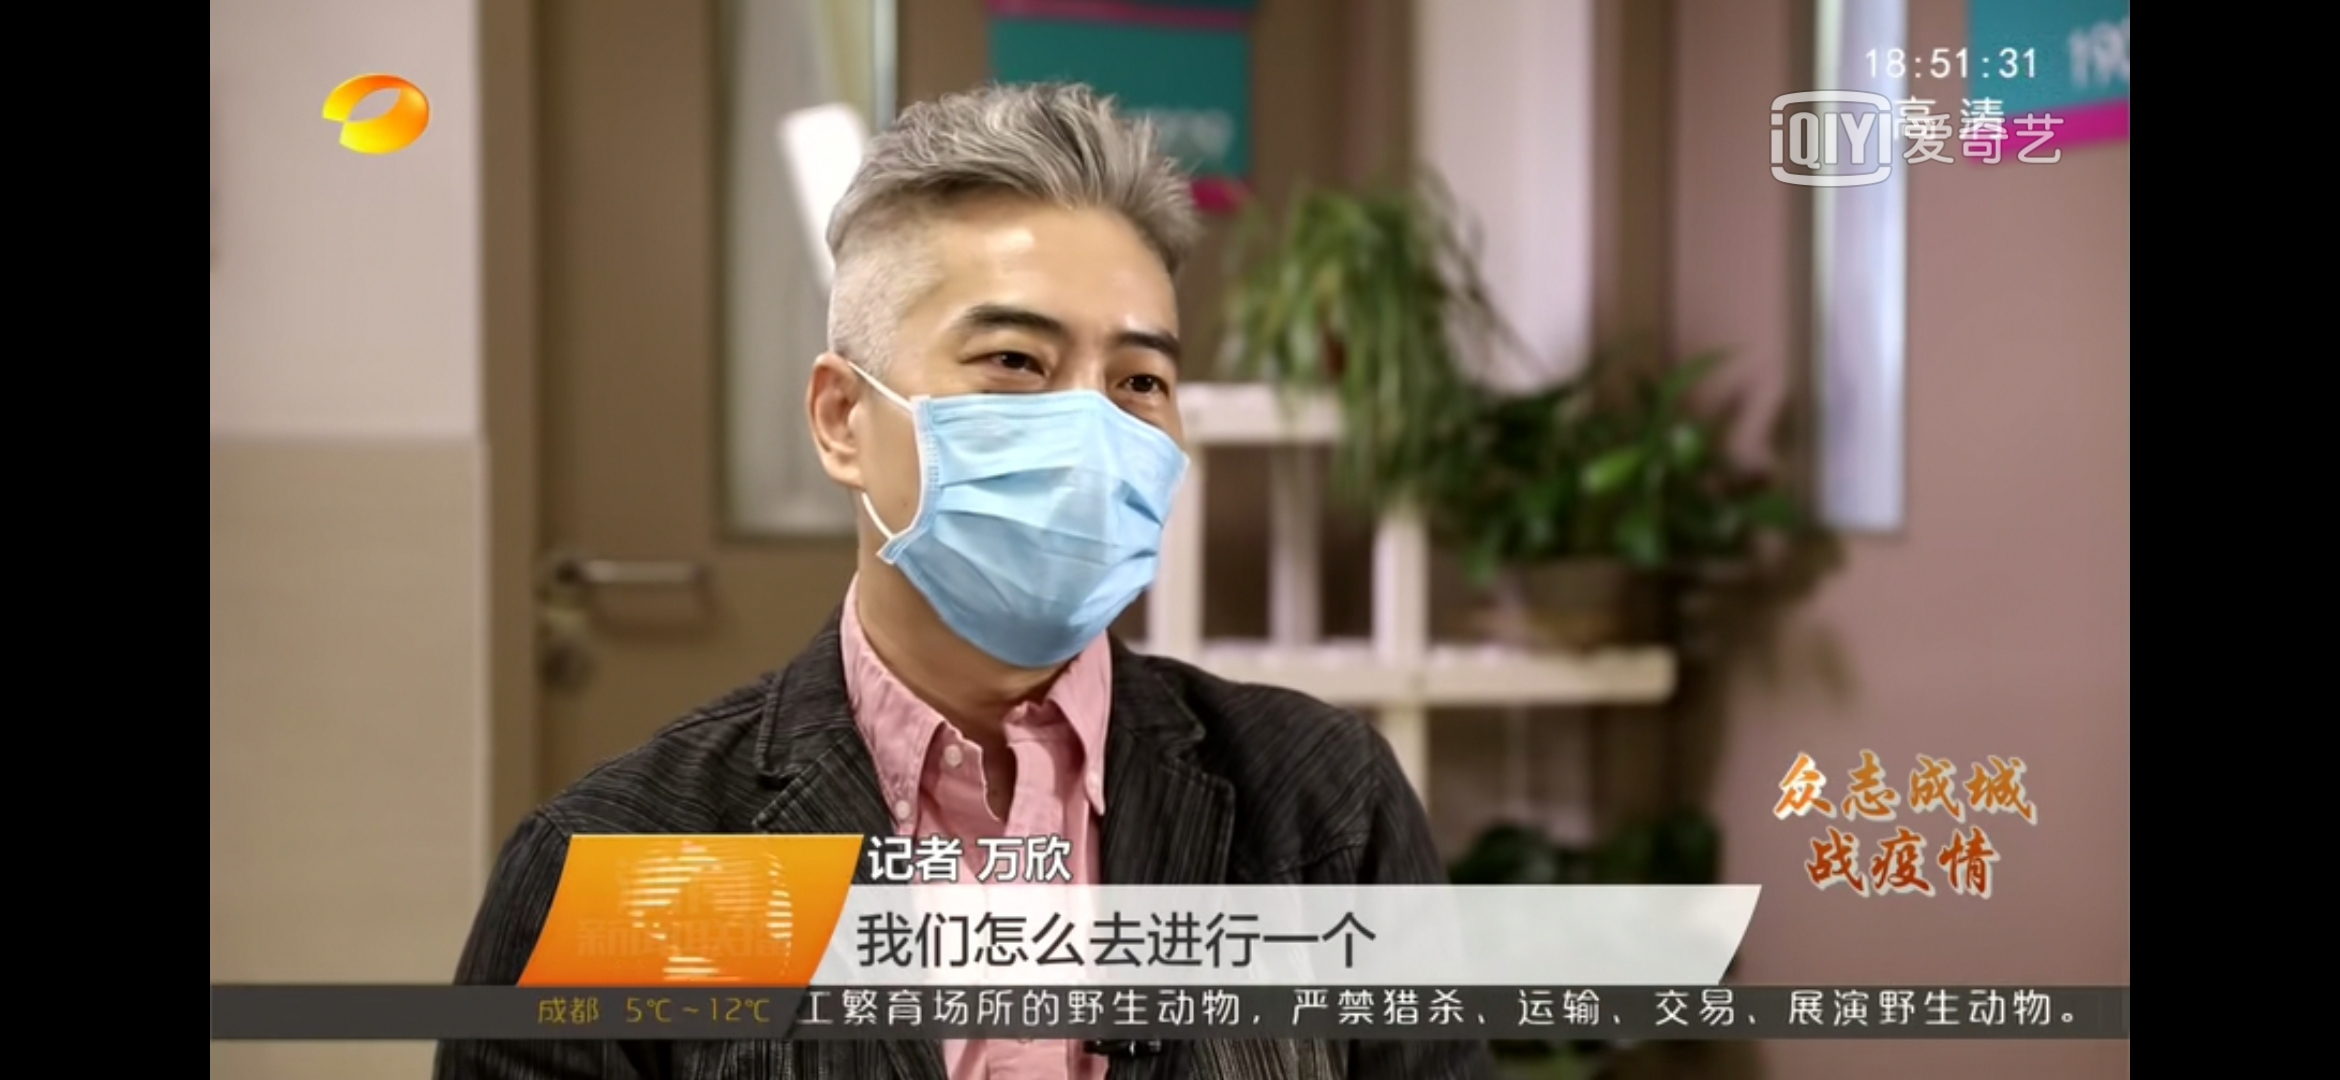correctlyWear: (803, 307, 1200, 667)
